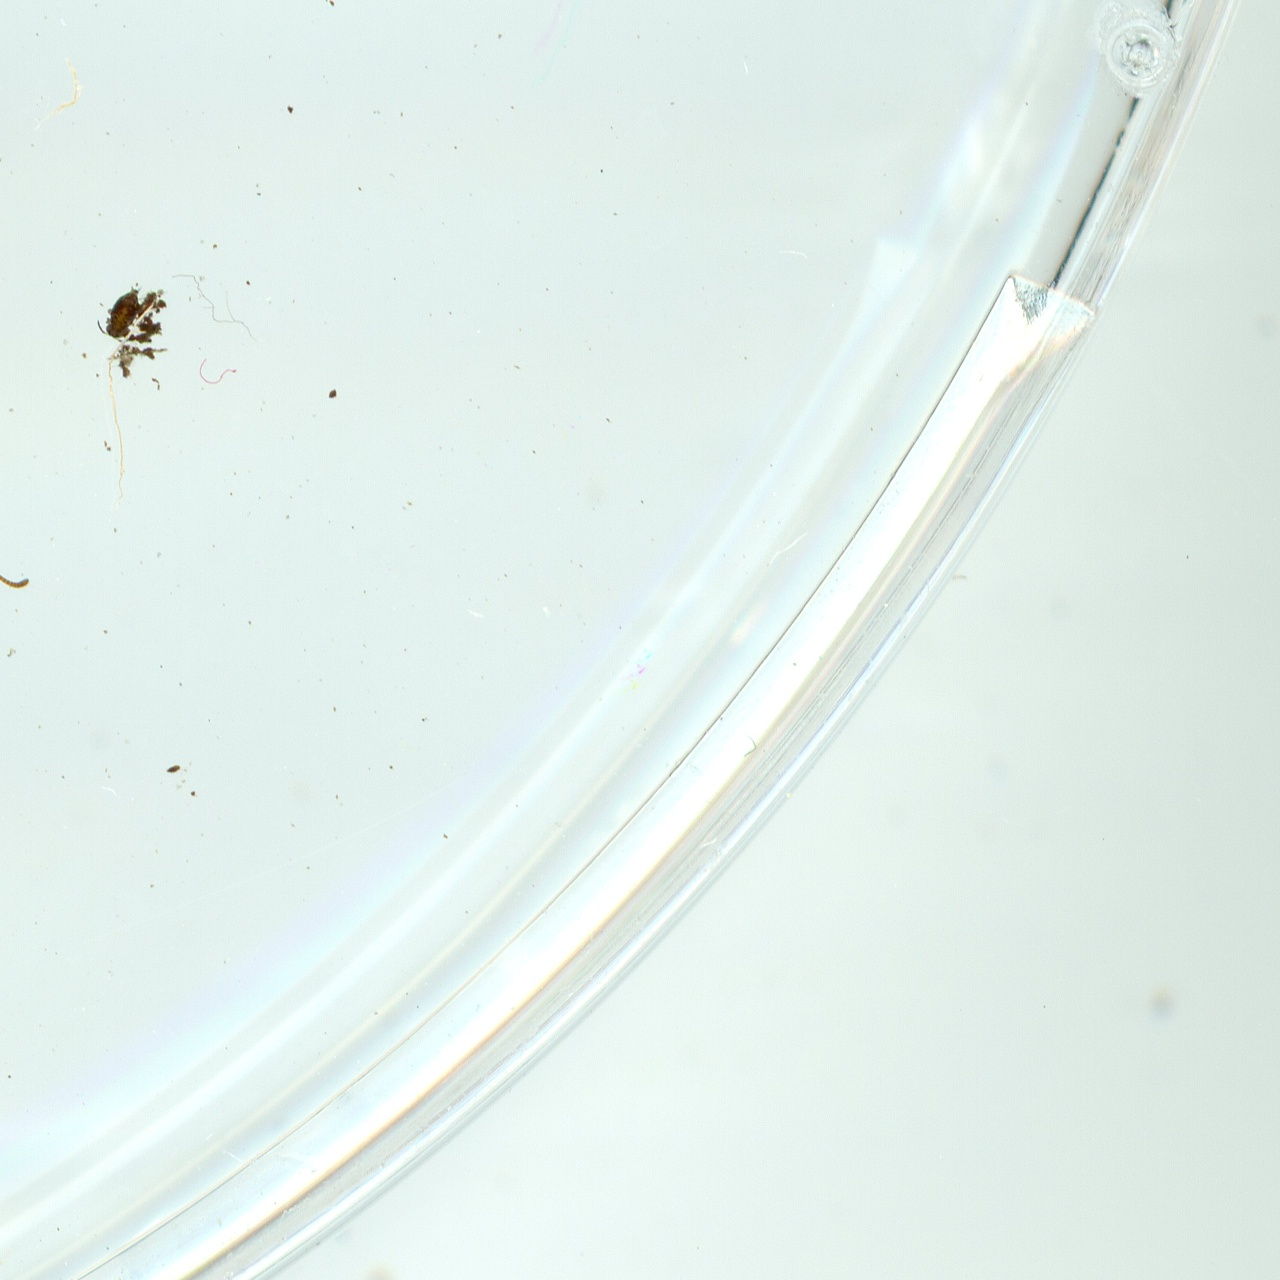arthropod: (0, 449, 36, 687), (90, 273, 151, 347)
